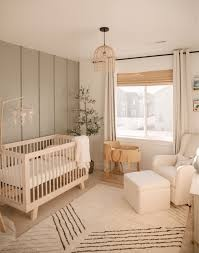crib: (0, 135, 87, 218)
